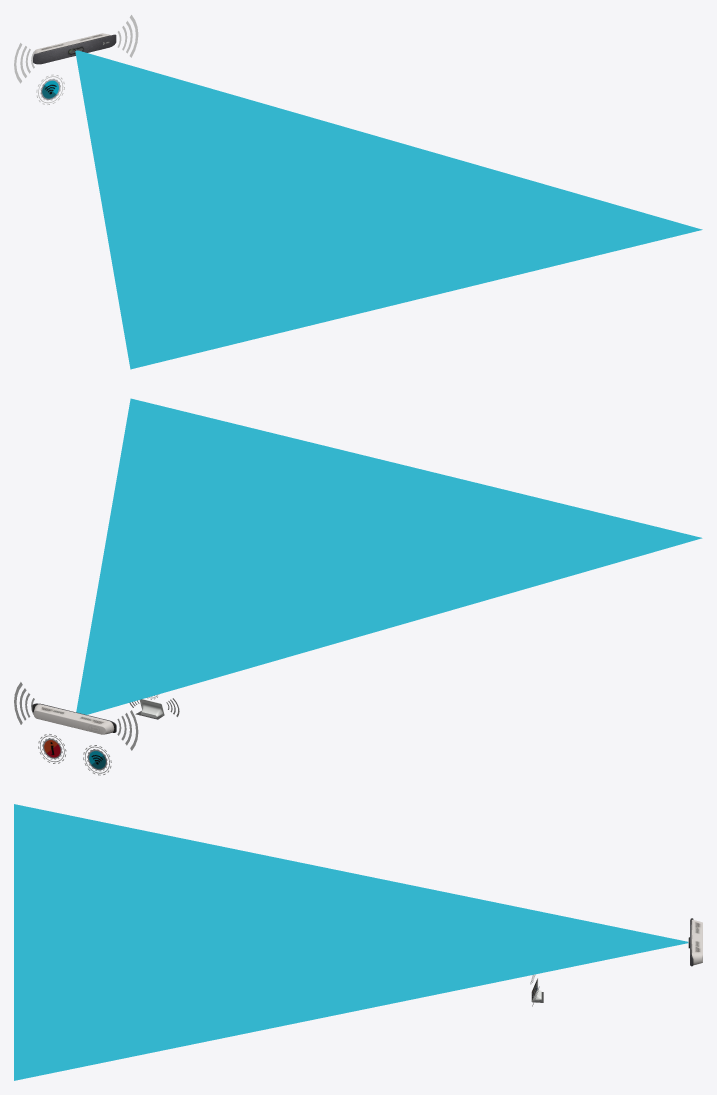
The model's file is SmallProps_PolyStudio_X30.glb.
The picture shows the model from 3 angles, top to bottom: view 1: azimuth 30°, elevation 25°; view 2: azimuth 150°, elevation 25°; view 3: azimuth 270°, elevation 25°; orthographic projection.
Visible parts, largest first — view 1: Range_PolyStudio_X30, SmallProps_PolyStudio_X30_Bar, CamPop_PolyStudioX30; view 2: Range_PolyStudio_X30, SmallProps_PolyStudio_X30_Bar, CamPop_PolyStudioX30; view 3: Range_PolyStudio_X30, SmallProps_PolyStudio_X30_Bar.
Part boxes in pixels (<box>): Range_PolyStudio_X30: <box>75,50,702,369</box>; SmallProps_PolyStudio_X30_Bar: <box>33,33,116,64</box>; CamPop_PolyStudioX30: <box>14,15,138,83</box>; Range_PolyStudio_X30: <box>76,398,702,714</box>; SmallProps_PolyStudio_X30_Bar: <box>32,703,116,734</box>; CamPop_PolyStudioX30: <box>14,682,138,750</box>; Range_PolyStudio_X30: <box>14,804,688,1080</box>; SmallProps_PolyStudio_X30_Bar: <box>688,918,702,966</box>.
Bounding box in the file's own units: 5.25 × 0.6713 × 5.52.
9 materials, 5 textured.
